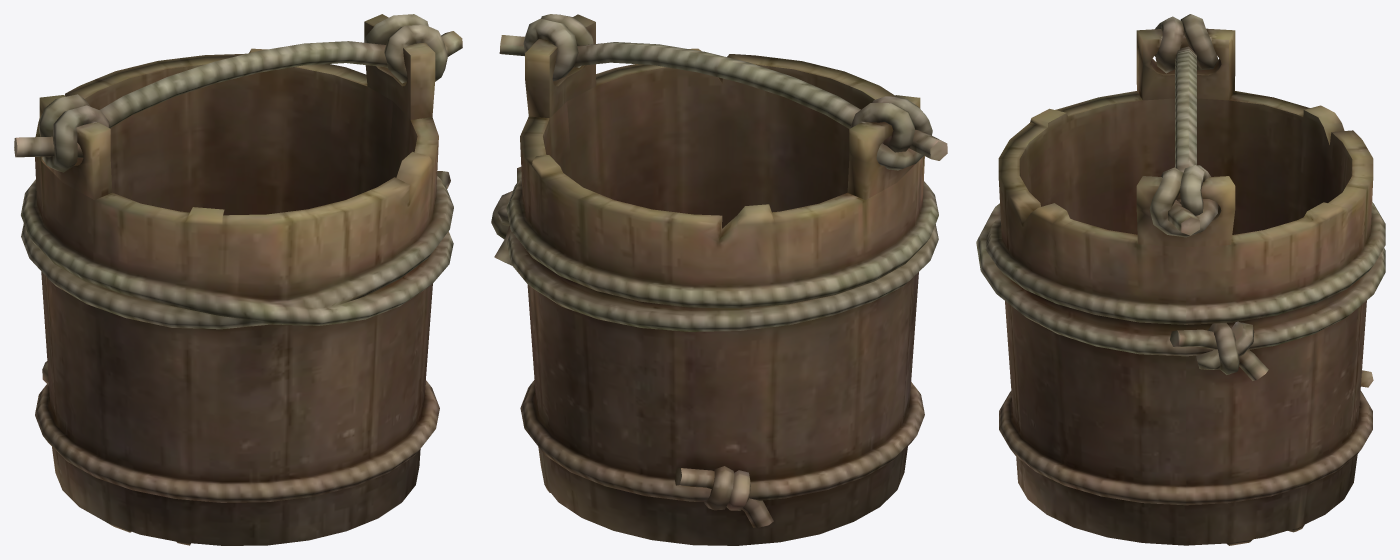
3 views of the same model, side by side, from view 1: azimuth 30°, elevation 25°; view 2: azimuth 150°, elevation 25°; view 3: azimuth 270°, elevation 25° (orthographic). The views are drawn at different scales.
Parts seen in each view (by area): view 1: SM_Bucket_2H_01_LOD0; view 2: SM_Bucket_2H_01_LOD0; view 3: SM_Bucket_2H_01_LOD0.
Part boxes in pixels (x1,y1,x2,y2): SM_Bucket_2H_01_LOD0: (14, 14, 462, 545); SM_Bucket_2H_01_LOD0: (491, 14, 947, 545); SM_Bucket_2H_01_LOD0: (976, 14, 1385, 545).
Size of the model in its own units: 0.5362 by 0.4791 by 0.4595.
1 material, 1 textured.
